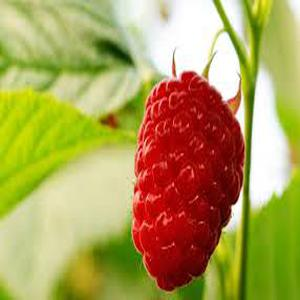raspb: (128, 66, 251, 291)
